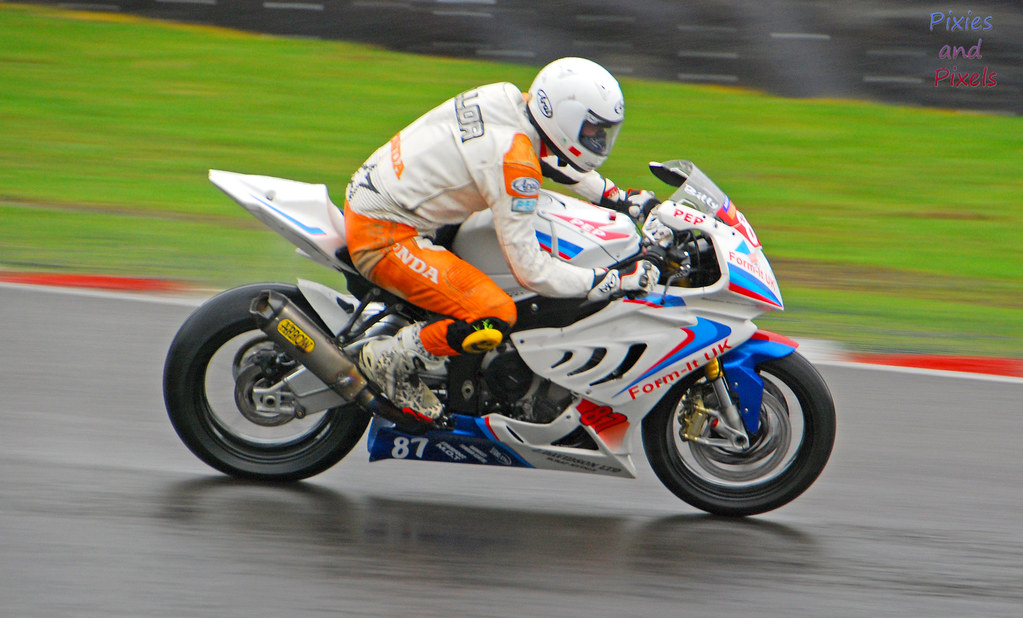helmet: (536, 51, 627, 191)
